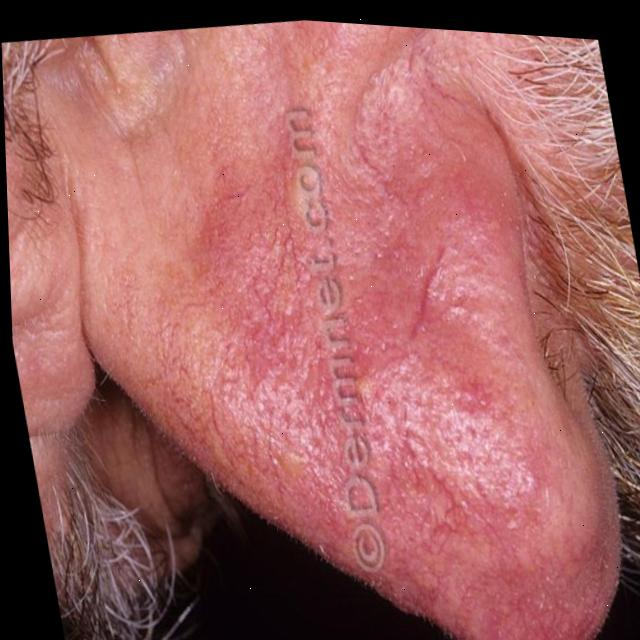Rosacea: (167, 95, 509, 579)
